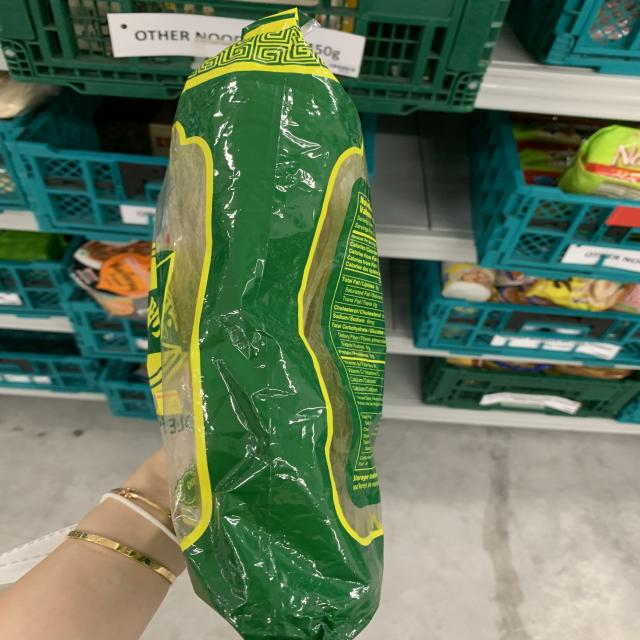object_name: (184, 62, 381, 633)
